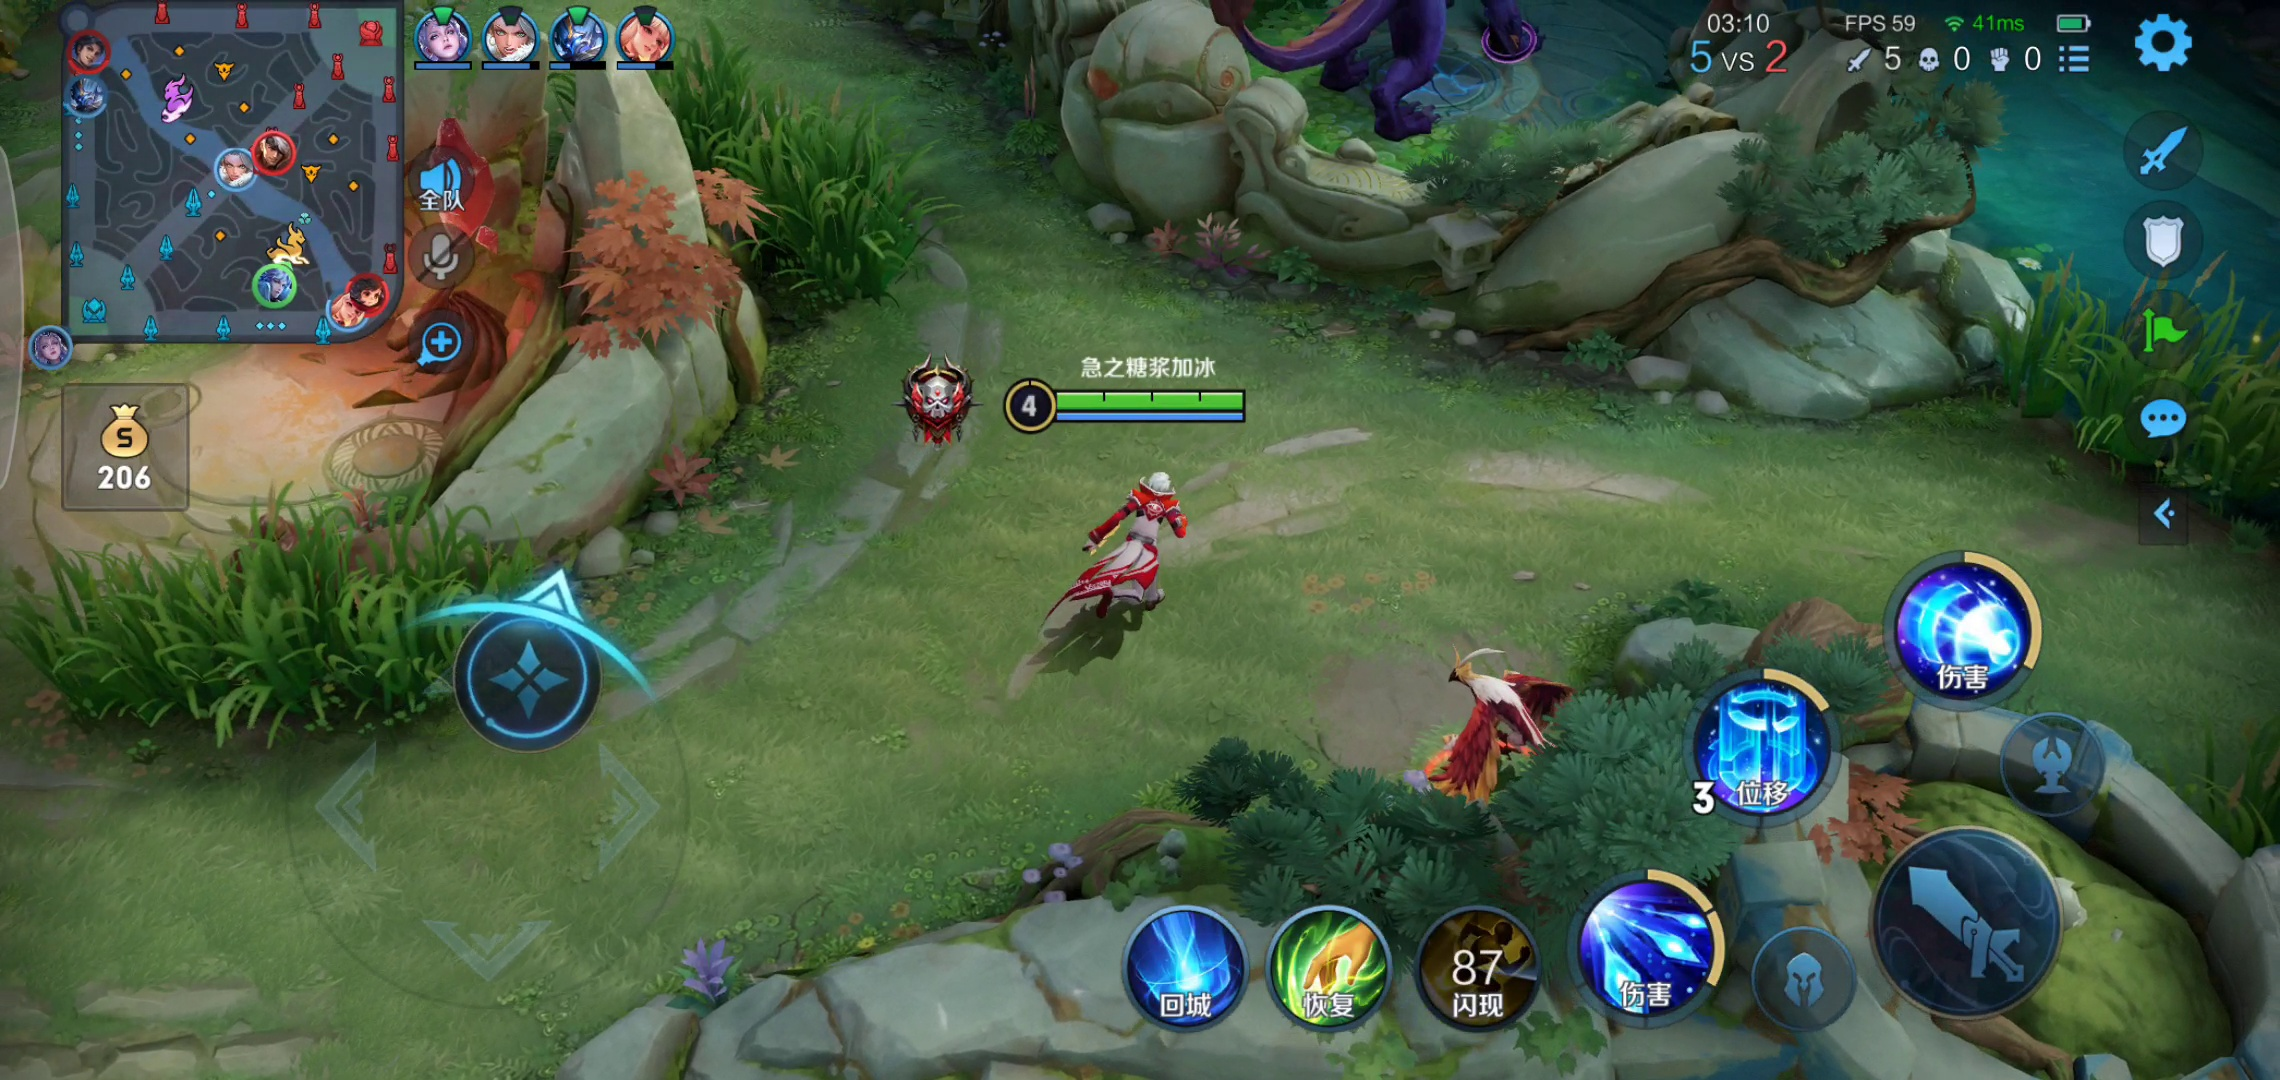dragon: (1240, 1, 1567, 151)
grass: (15, 542, 585, 741), (617, 36, 941, 343), (2008, 253, 2280, 531)
hero: (1041, 464, 1214, 637)
wild_monster: (1397, 632, 1623, 821)
